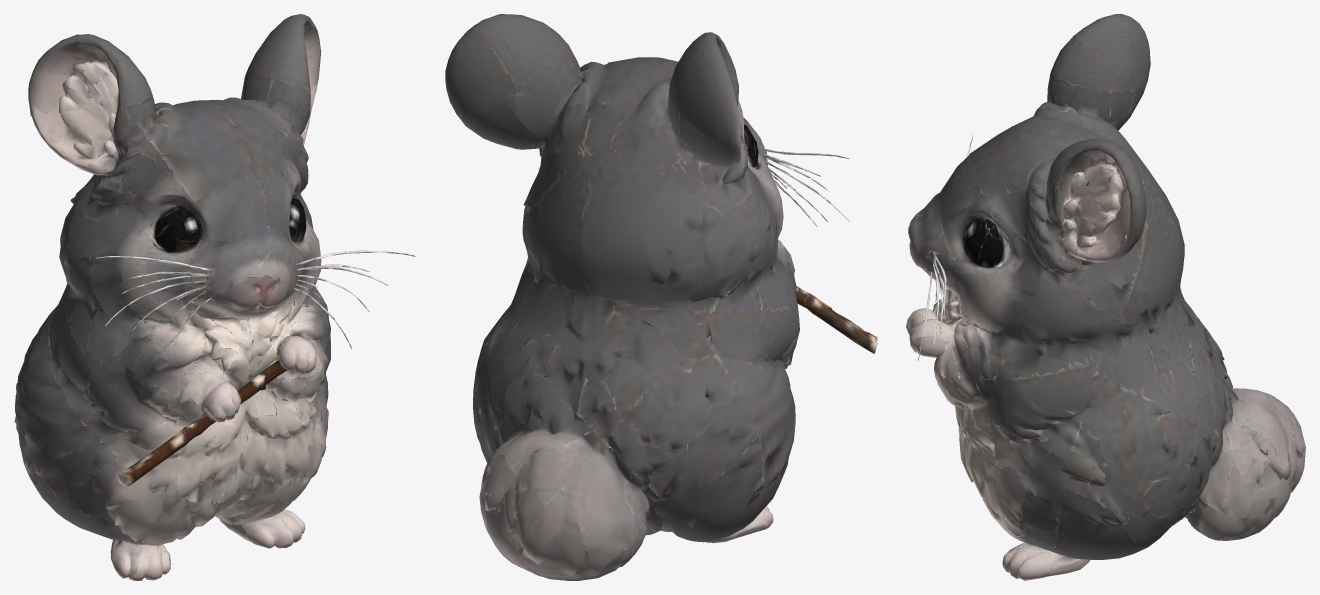
Rendered from chinchilla.glb.
The picture shows the model from 3 angles, left to right: view 1: azimuth 30°, elevation 25°; view 2: azimuth 150°, elevation 25°; view 3: azimuth 270°, elevation 25°; orthographic projection. The views are drawn at different scales.
Visible parts, largest first — view 1: Mesh_0; view 2: Mesh_0; view 3: Mesh_0.
Part boxes in pixels (box(x1,y1,x2,y2)): Mesh_0: box(14, 14, 415, 580); Mesh_0: box(445, 14, 877, 580); Mesh_0: box(906, 14, 1305, 580).
Size of the model in its own units: 1.22 by 1.91 by 1.42.
Materials: 1 (1 with a texture image).
